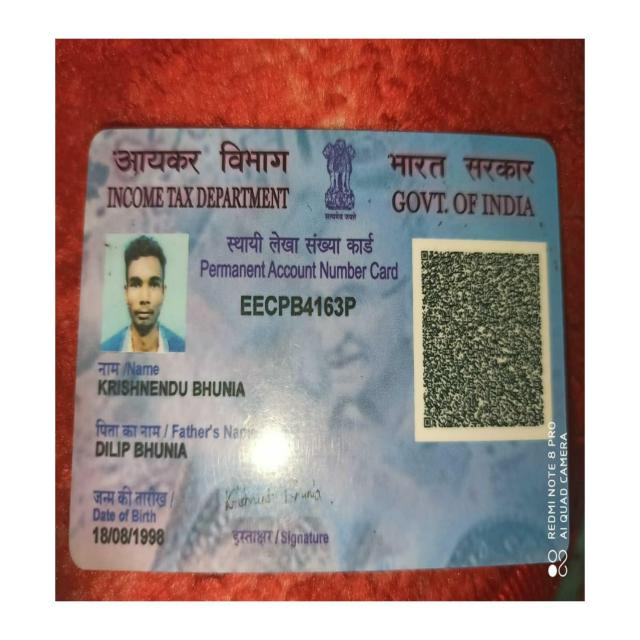pan_card: (77, 135, 566, 566)
